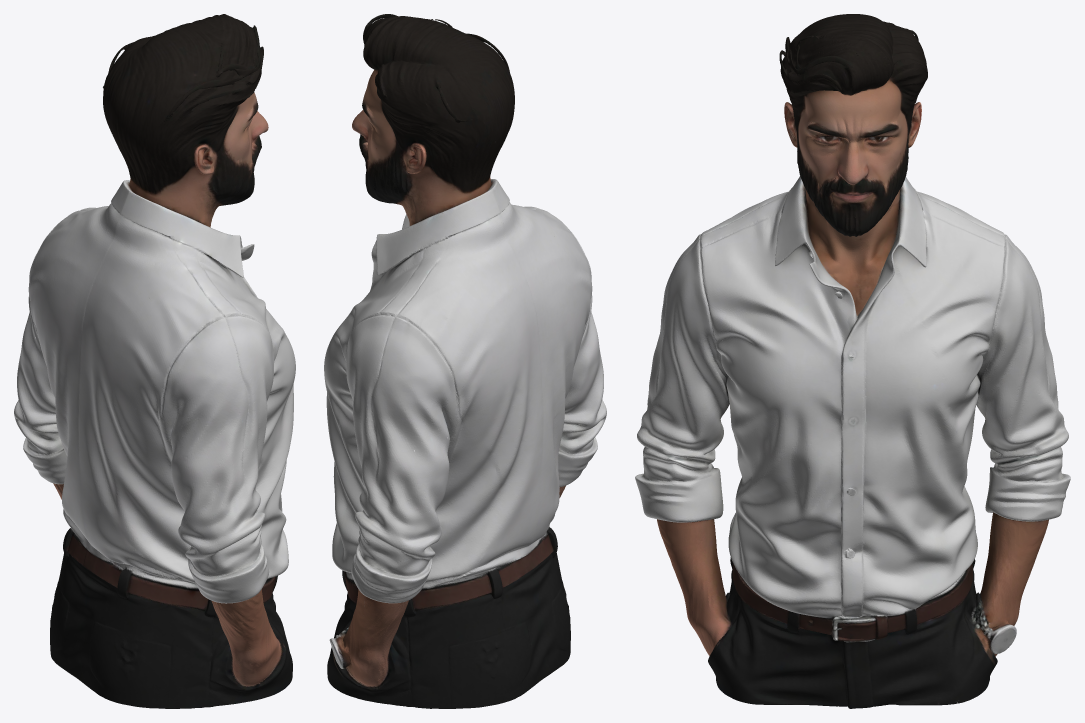
The model's file is man.glb.
3 views of the same model, side by side, from view 1: azimuth 30°, elevation 25°; view 2: azimuth 150°, elevation 25°; view 3: azimuth 270°, elevation 25° (orthographic). The views are drawn at different scales.
Parts seen in each view (by area): view 1: tripo_node_9c9b3894-8850-4fea-9861-4fd3a6945c66; view 2: tripo_node_9c9b3894-8850-4fea-9861-4fd3a6945c66; view 3: tripo_node_9c9b3894-8850-4fea-9861-4fd3a6945c66.
Boxes of the visible parts, <box> form: tripo_node_9c9b3894-8850-4fea-9861-4fd3a6945c66: <box>14,14,295,708</box>; tripo_node_9c9b3894-8850-4fea-9861-4fd3a6945c66: <box>324,14,606,708</box>; tripo_node_9c9b3894-8850-4fea-9861-4fd3a6945c66: <box>635,14,1070,708</box>.
Size of the model in its own units: 0.3378 by 0.9989 by 0.5992.
Materials: 1 (1 with a texture image).
